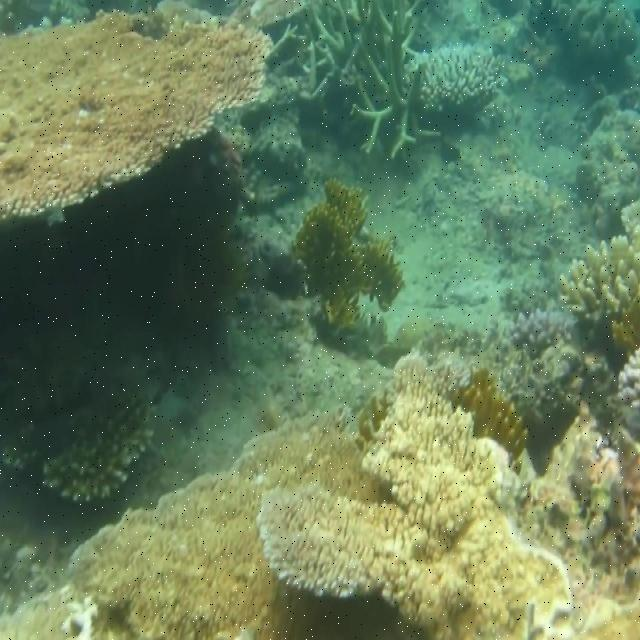reefs: (0, 346, 639, 639), (0, 1, 308, 230), (277, 2, 443, 162), (290, 173, 406, 330), (0, 395, 156, 504), (555, 200, 639, 351), (486, 307, 584, 434), (404, 44, 508, 119), (617, 347, 639, 429)
